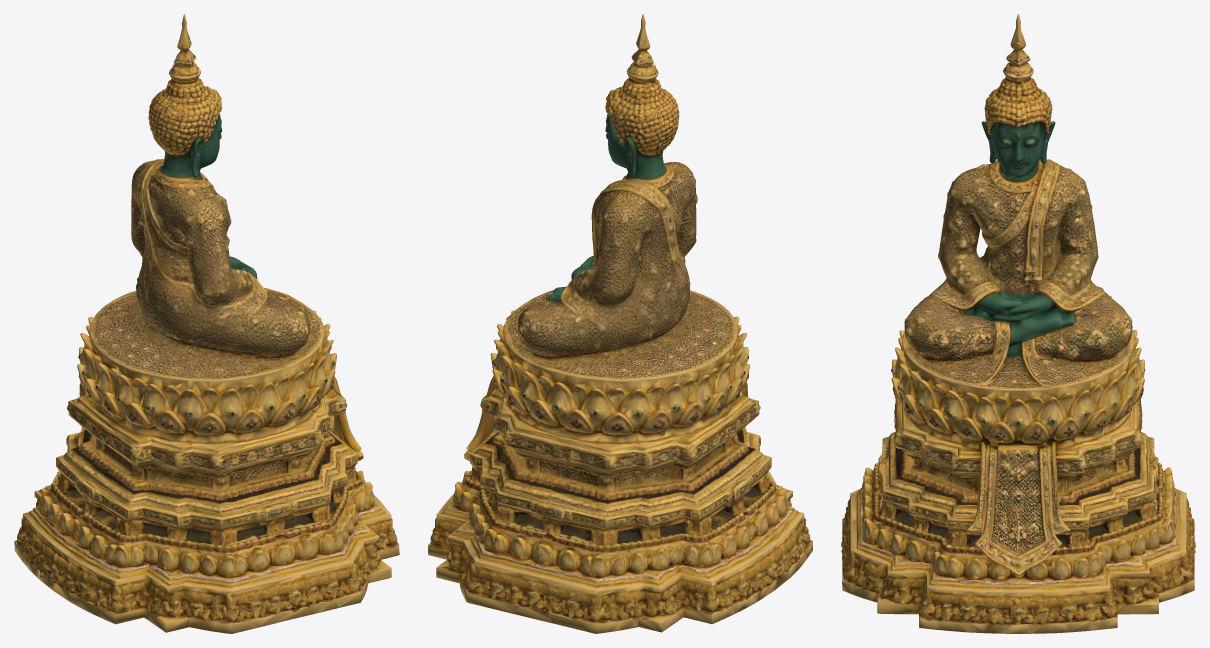
The model's file is emerald-cool.glb.
3 views of the same model, side by side, from view 1: azimuth 30°, elevation 25°; view 2: azimuth 150°, elevation 25°; view 3: azimuth 270°, elevation 25° (orthographic).
Visible parts, largest first — view 1: tripo_node_d51a23eb-22cb-412f-ae36-f139901a7b41; view 2: tripo_node_d51a23eb-22cb-412f-ae36-f139901a7b41; view 3: tripo_node_d51a23eb-22cb-412f-ae36-f139901a7b41.
Boxes of the visible parts, x1,y1,x2,y2 form: tripo_node_d51a23eb-22cb-412f-ae36-f139901a7b41: (14,14,399,633); tripo_node_d51a23eb-22cb-412f-ae36-f139901a7b41: (428,14,812,633); tripo_node_d51a23eb-22cb-412f-ae36-f139901a7b41: (841,14,1195,633).
Size of the model in its own units: 0.6024 by 1 by 0.6007.
1 material, 1 textured.
